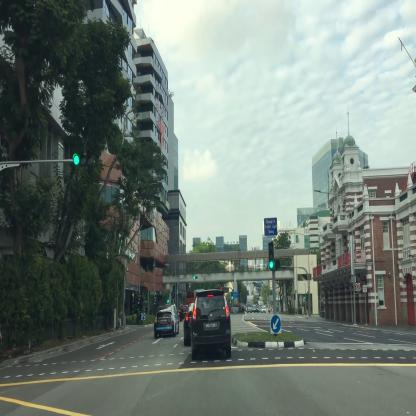green_traffic_light: (73, 154, 94, 165), (268, 244, 273, 269)
